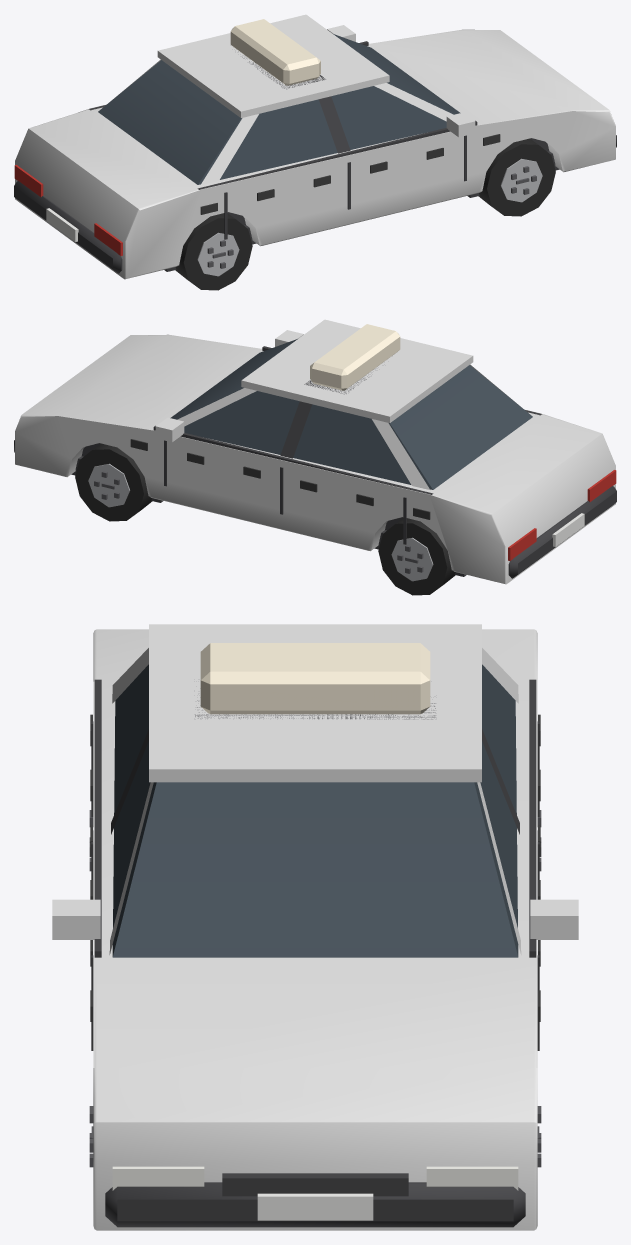
File: taxi.glb
3 views of the same model, one above another, from view 1: azimuth 30°, elevation 25°; view 2: azimuth 150°, elevation 25°; view 3: azimuth 270°, elevation 25° (orthographic). The views are drawn at different scales.
Parts seen in each view (by area): view 1: taxi; view 2: taxi; view 3: taxi.
Boxes of the visible parts, bbox=[...] form: taxi: bbox=[14, 14, 616, 290]; taxi: bbox=[14, 319, 616, 595]; taxi: bbox=[52, 624, 578, 1230].
Size of the model in its own units: 4.87 by 1.66 by 2.18.
